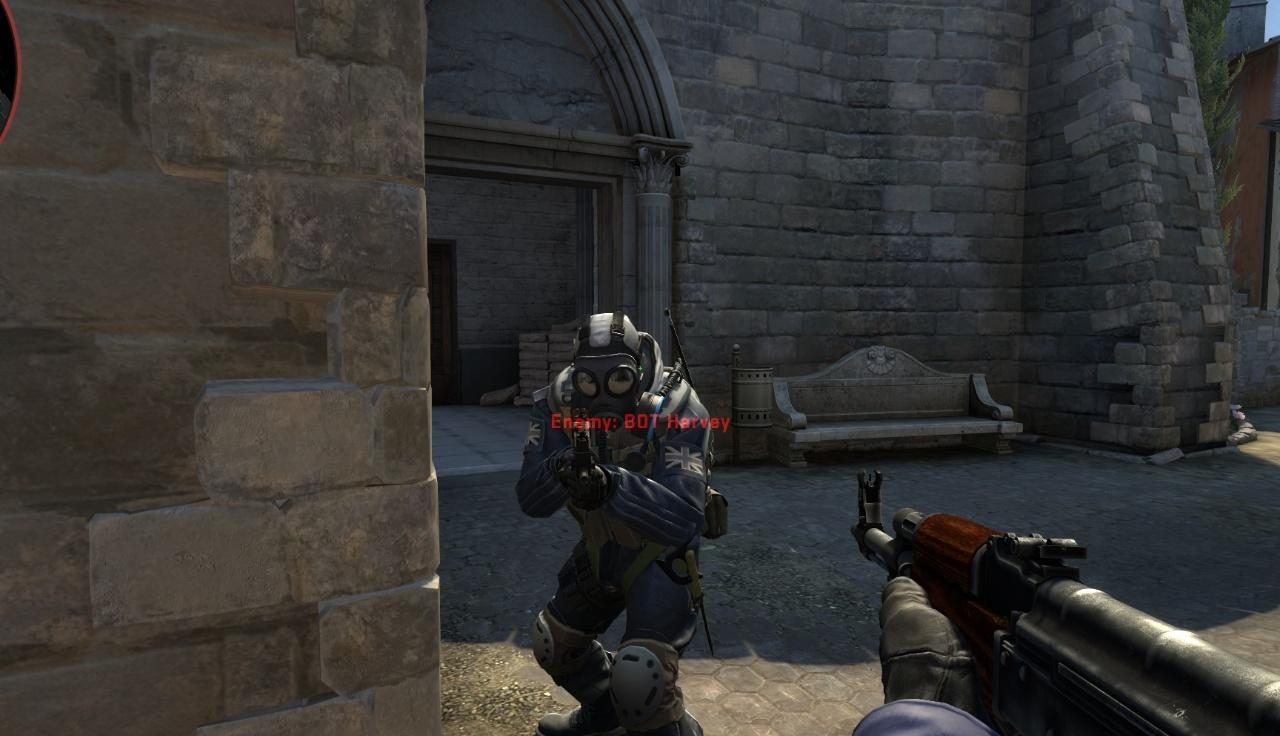ct: (517, 314, 717, 735)
cthead: (570, 311, 645, 421)
rifle: (847, 475, 1277, 733)
